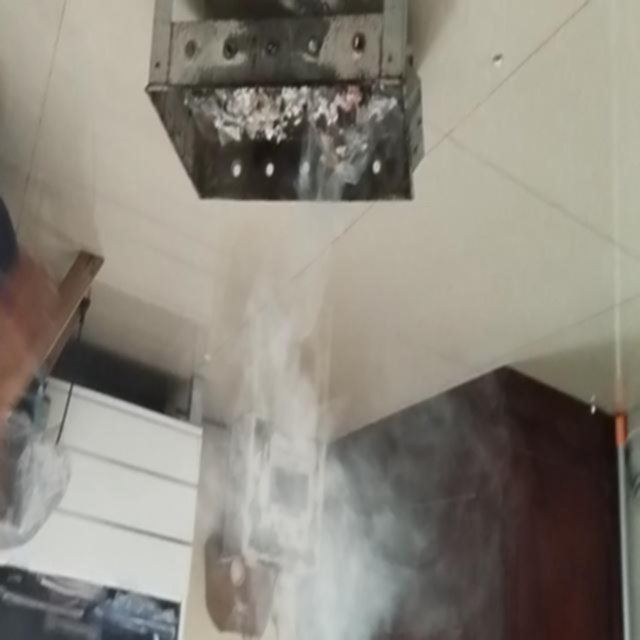smoke: (211, 311, 404, 640)
